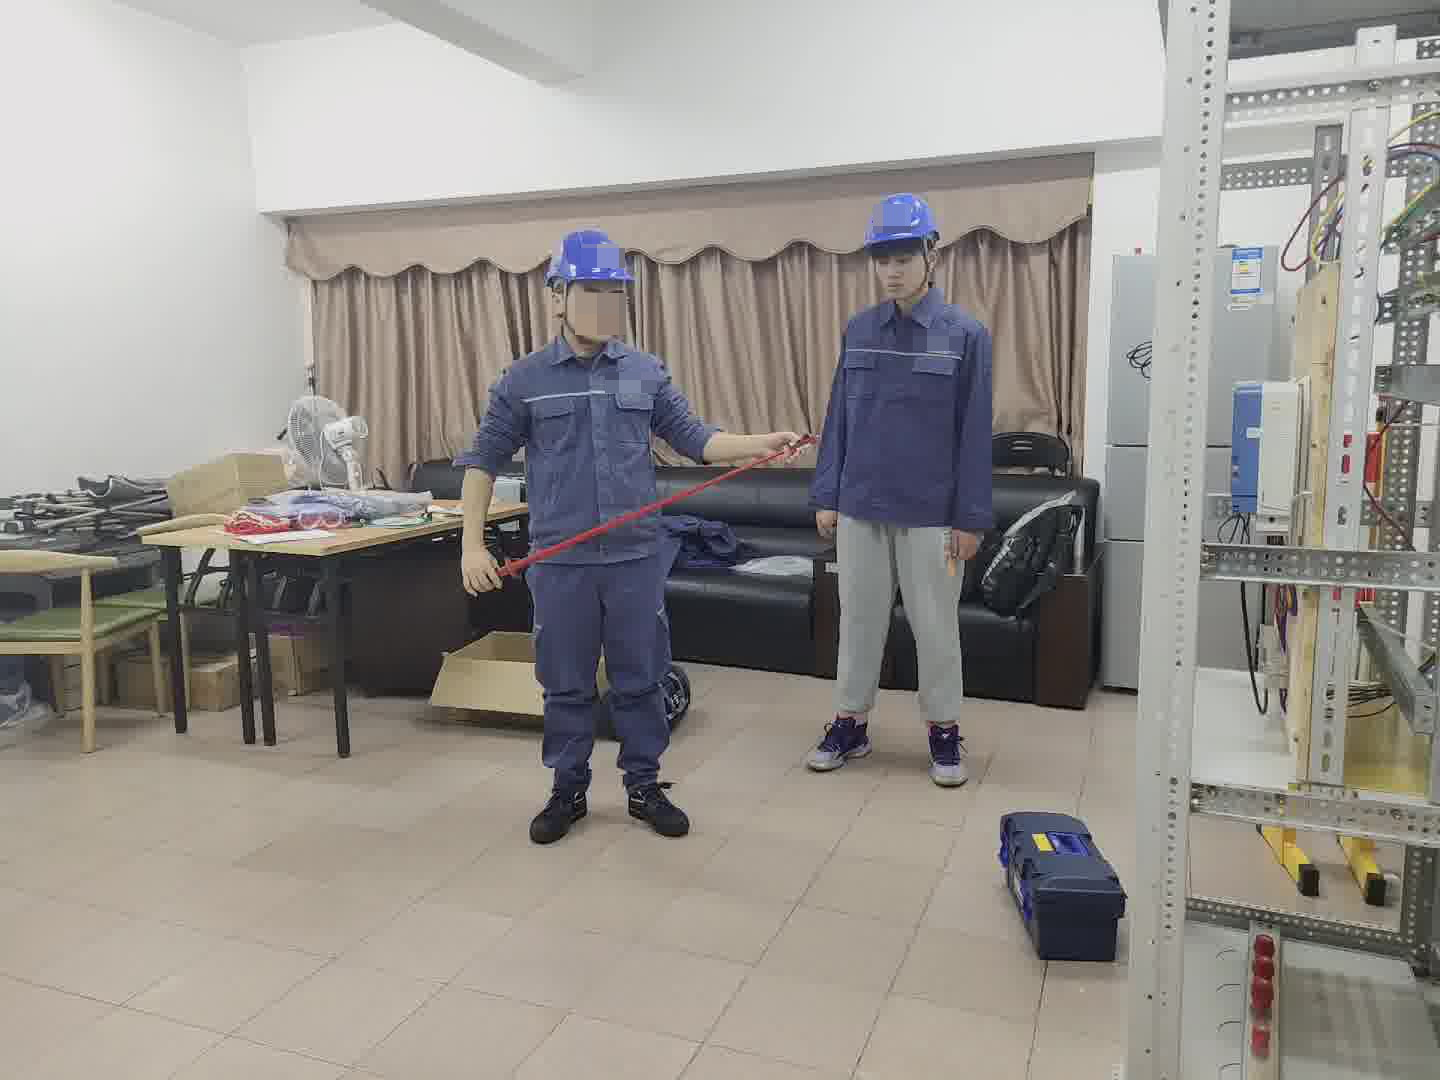downcloth: (819, 514, 982, 736)
downsuit: (529, 571, 679, 790)
halt: (542, 226, 639, 339), (861, 191, 946, 293)
hand: (456, 547, 502, 604), (759, 423, 812, 469), (944, 524, 982, 565), (811, 505, 841, 541)
inear: (908, 239, 943, 298), (549, 283, 582, 340)
person: (454, 223, 718, 837), (807, 189, 1000, 788)
testrod: (459, 429, 820, 598)
upsuit: (460, 335, 708, 559), (814, 291, 998, 527)
wrongtop: (448, 421, 526, 559), (671, 402, 771, 477)
